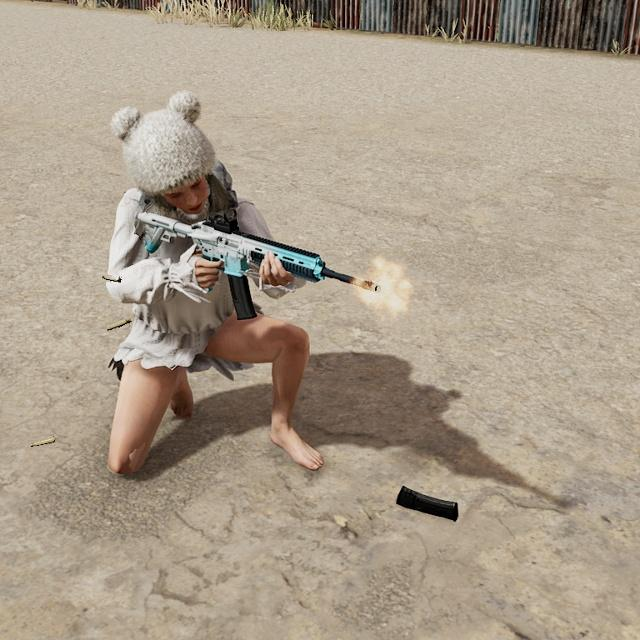head: (110, 104, 225, 229)
people: (87, 93, 358, 485)
